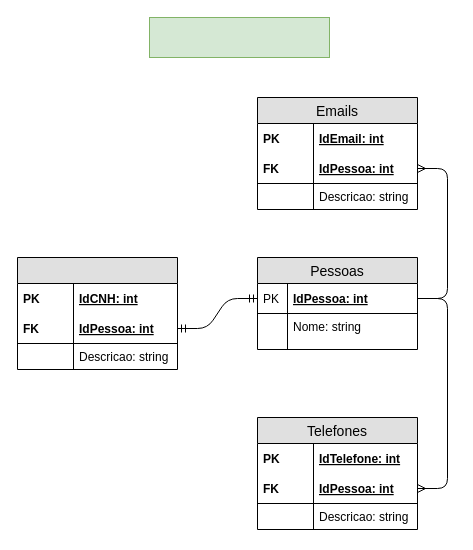
Image size: 473x550. Some labels were removed from this diagram. The shapes that lost their labels are listed below. From the top down, each one's box as (x1, y1, x2, y2) in pixels, then its label:
(148, 16, 330, 58): Lógico
(16, 256, 178, 370): CNHs
